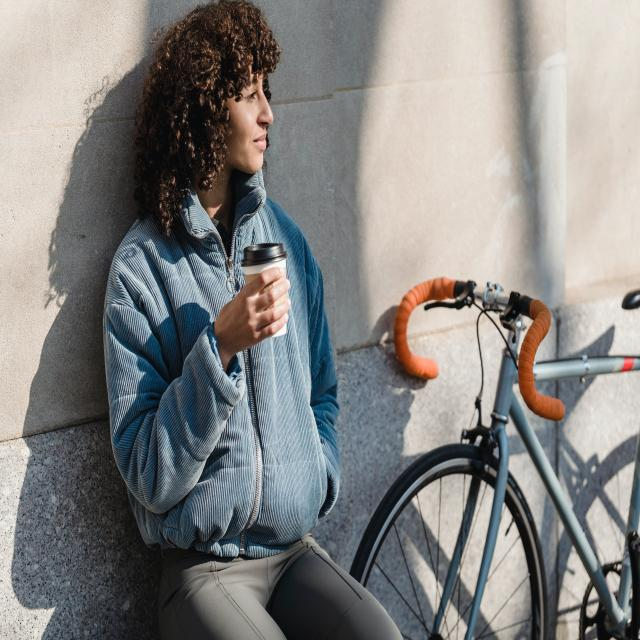cup: (240, 242, 292, 341)
